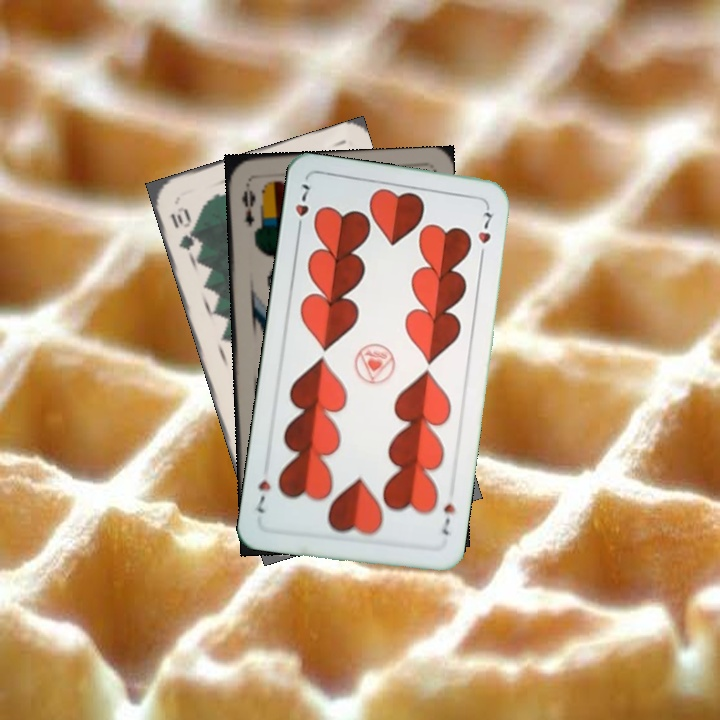EO: (237, 186, 259, 229)
G10: (166, 202, 198, 253)
H7: (291, 179, 313, 236), (438, 499, 458, 538)
